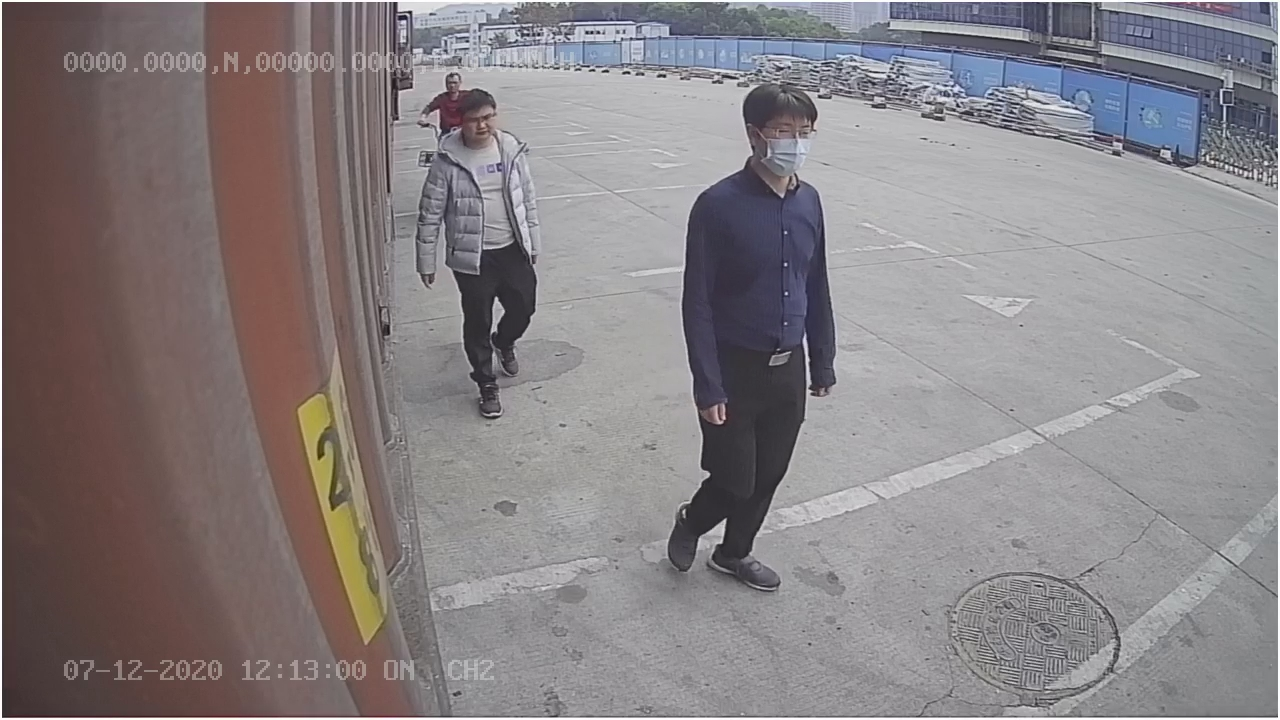person: (665, 76, 836, 590)
